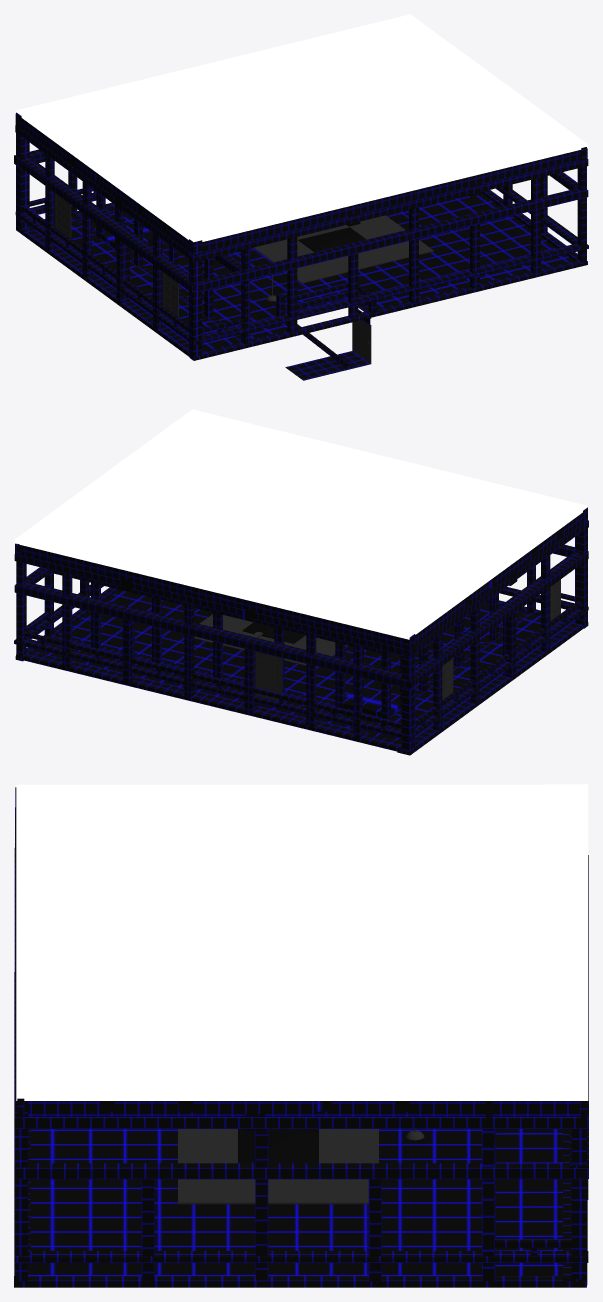
File: open_tatami_room_dark2.glb
The picture shows the model from 3 angles, top to bottom: view 1: azimuth 30°, elevation 25°; view 2: azimuth 150°, elevation 25°; view 3: azimuth 270°, elevation 25°; orthographic projection. The views are drawn at different scales.
Visible parts, largest first — view 1: Object_3, Object_5, Object_7, Object_9, Object_8, Object_4; view 2: Object_3, Object_5, Object_7, Object_8, Object_9, Object_4; view 3: Object_3, Object_5, Object_7, Object_9, Object_4.
Part boxes in pixels (x1,y1,x2,y2): Object_3: (16,14,587,241); Object_5: (14,112,588,368); Object_7: (71,193,573,380); Object_9: (253,215,433,364); Object_8: (54,193,178,321); Object_4: (298,227,366,252); Object_3: (14,409,587,639); Object_5: (14,507,588,755); Object_7: (33,589,540,741); Object_8: (255,579,560,707); Object_9: (183,614,346,667); Object_4: (242,622,305,643); Object_3: (16,784,588,1100); Object_5: (14,787,588,1287); Object_7: (28,1129,562,1275); Object_9: (178,1129,424,1204); Object_4: (238,1129,318,1163).
Bounding box in the file's own units: 146 × 58.72 × 114.
Materials: 5 (2 with a texture image).
